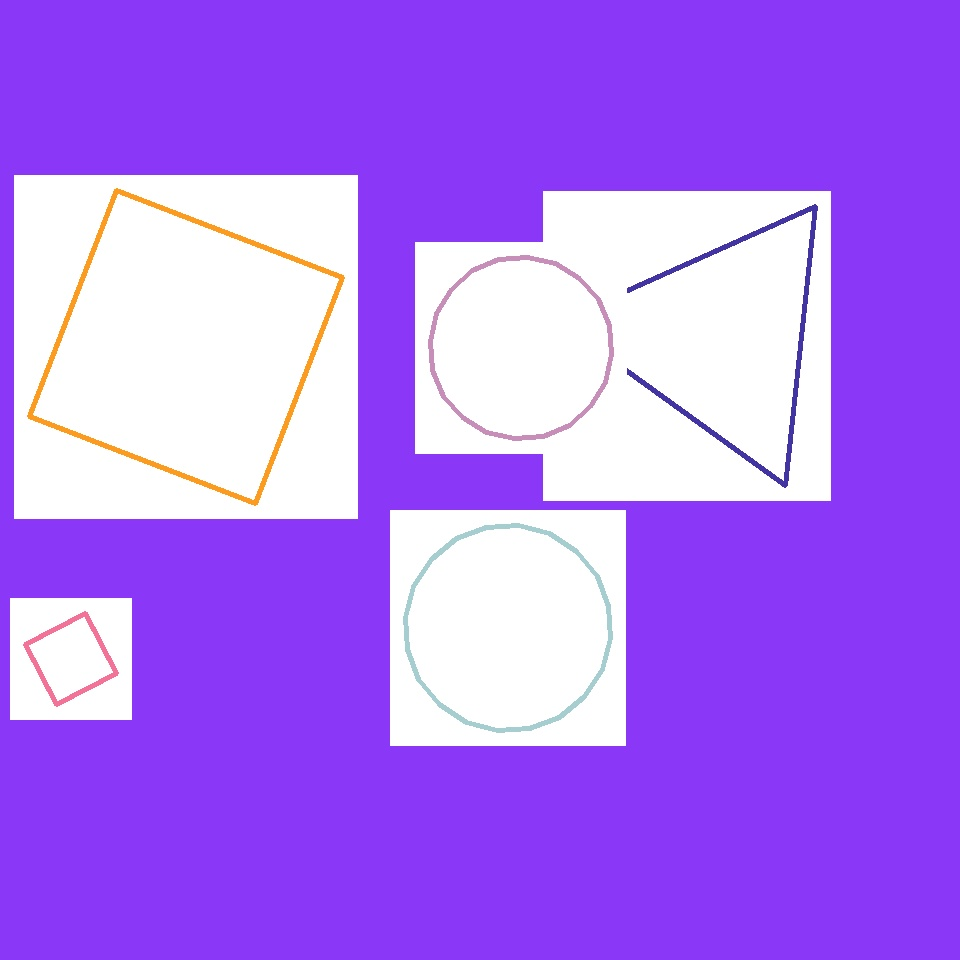circle: (592, 198, 848, 478), (314, 39, 590, 280), (102, 193, 238, 339)
square: (30, 190, 343, 503), (379, 404, 604, 628), (26, 614, 116, 704)
triangle: (112, 243, 332, 464), (406, 526, 610, 730), (431, 257, 612, 438), (796, 164, 916, 283)
